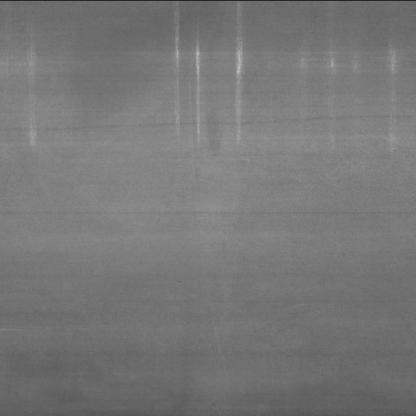waist_folding: (48, 18, 412, 219)
